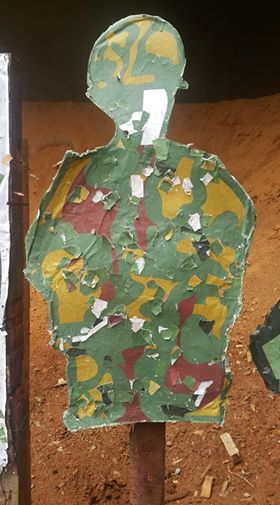Bullet: (202, 151, 211, 160), (123, 129, 129, 137), (139, 386, 146, 392)
